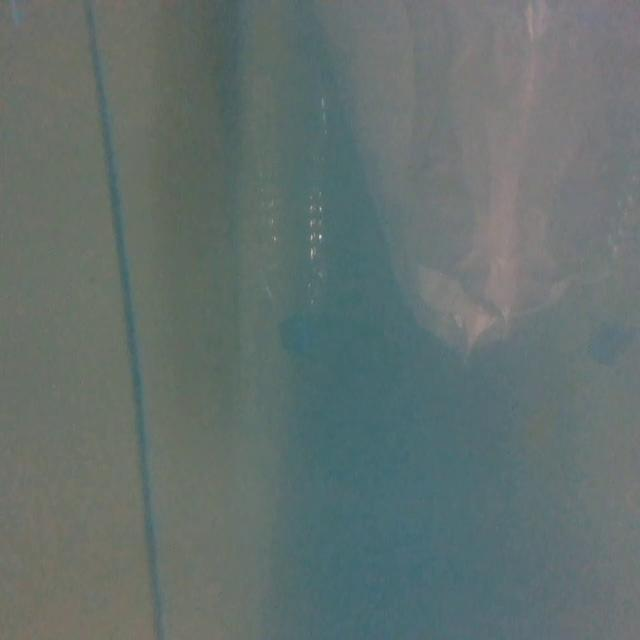plastic bags: (336, 0, 639, 365)
plastic bottle: (238, 74, 330, 363)
